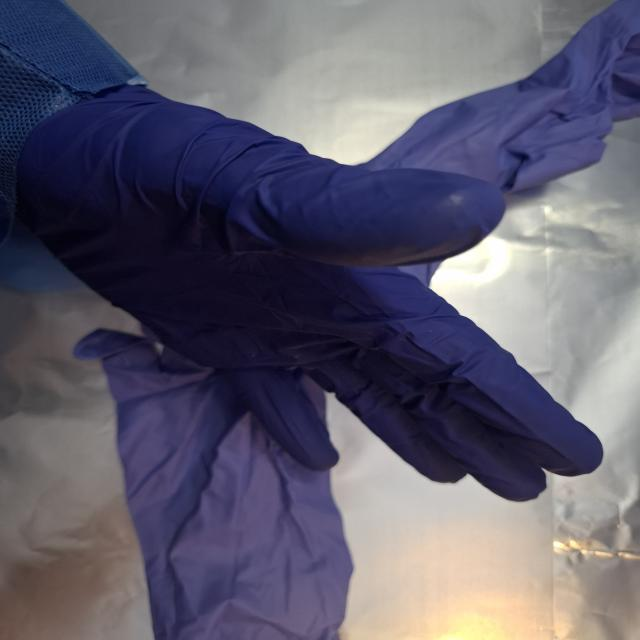glove_on: (15, 83, 607, 505)
